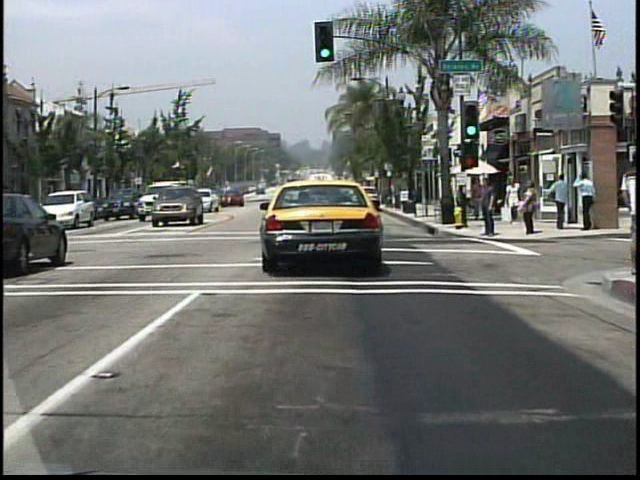person: (612, 150, 638, 276), (573, 170, 598, 232), (548, 172, 568, 233), (479, 179, 498, 240), (469, 177, 489, 226), (519, 183, 537, 235), (504, 178, 522, 228)
